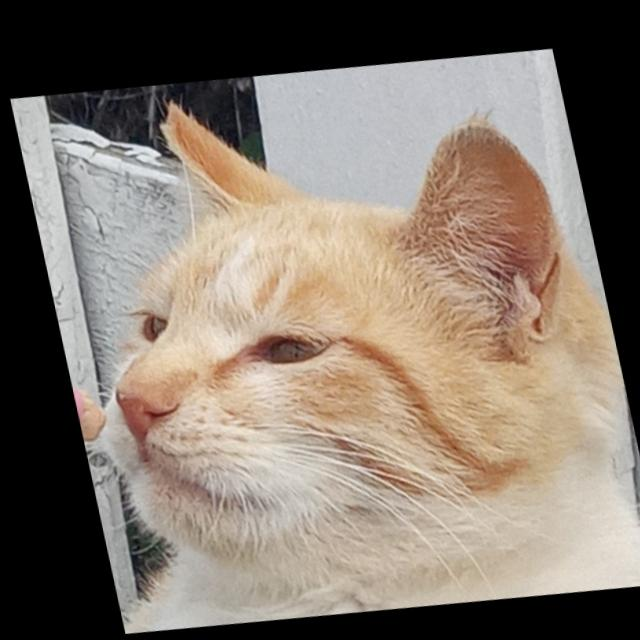animals: (28, 15, 640, 603)
